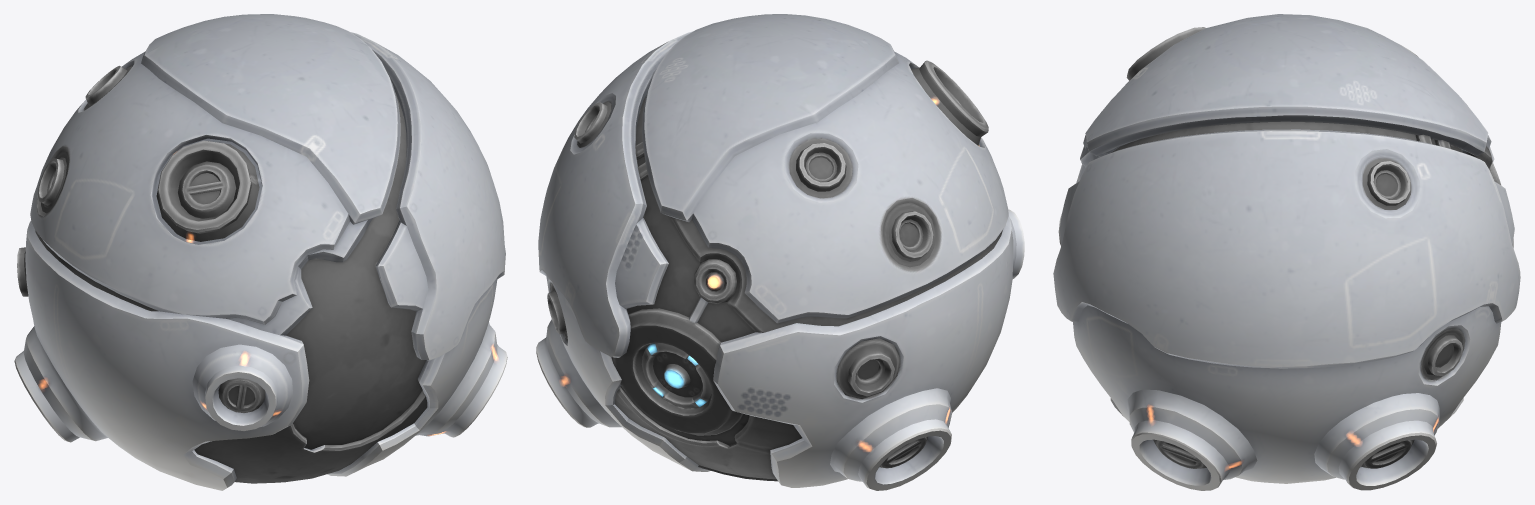
Rendered from Pfb_Soda_Core.fbx.
The picture shows the model from 3 angles, left to right: view 1: azimuth 30°, elevation 25°; view 2: azimuth 150°, elevation 25°; view 3: azimuth 270°, elevation 25°; orthographic projection.
Visible parts, largest first — view 1: MAT_Soda_Core 1; view 2: MAT_Soda_Core 1; view 3: MAT_Soda_Core 1.
Boxes of the visible parts, box(x1,y1,x2,y2) form: MAT_Soda_Core 1: box(14, 14, 507, 490); MAT_Soda_Core 1: box(536, 14, 1024, 490); MAT_Soda_Core 1: box(1053, 14, 1520, 490).
Size of the model in its own units: 2.17 by 2.14 by 2.14.
1 material, 1 textured.
